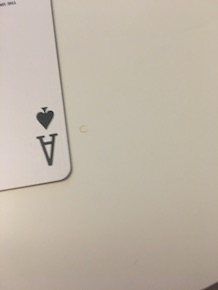AceOfSpades: (1, 1, 78, 200)
